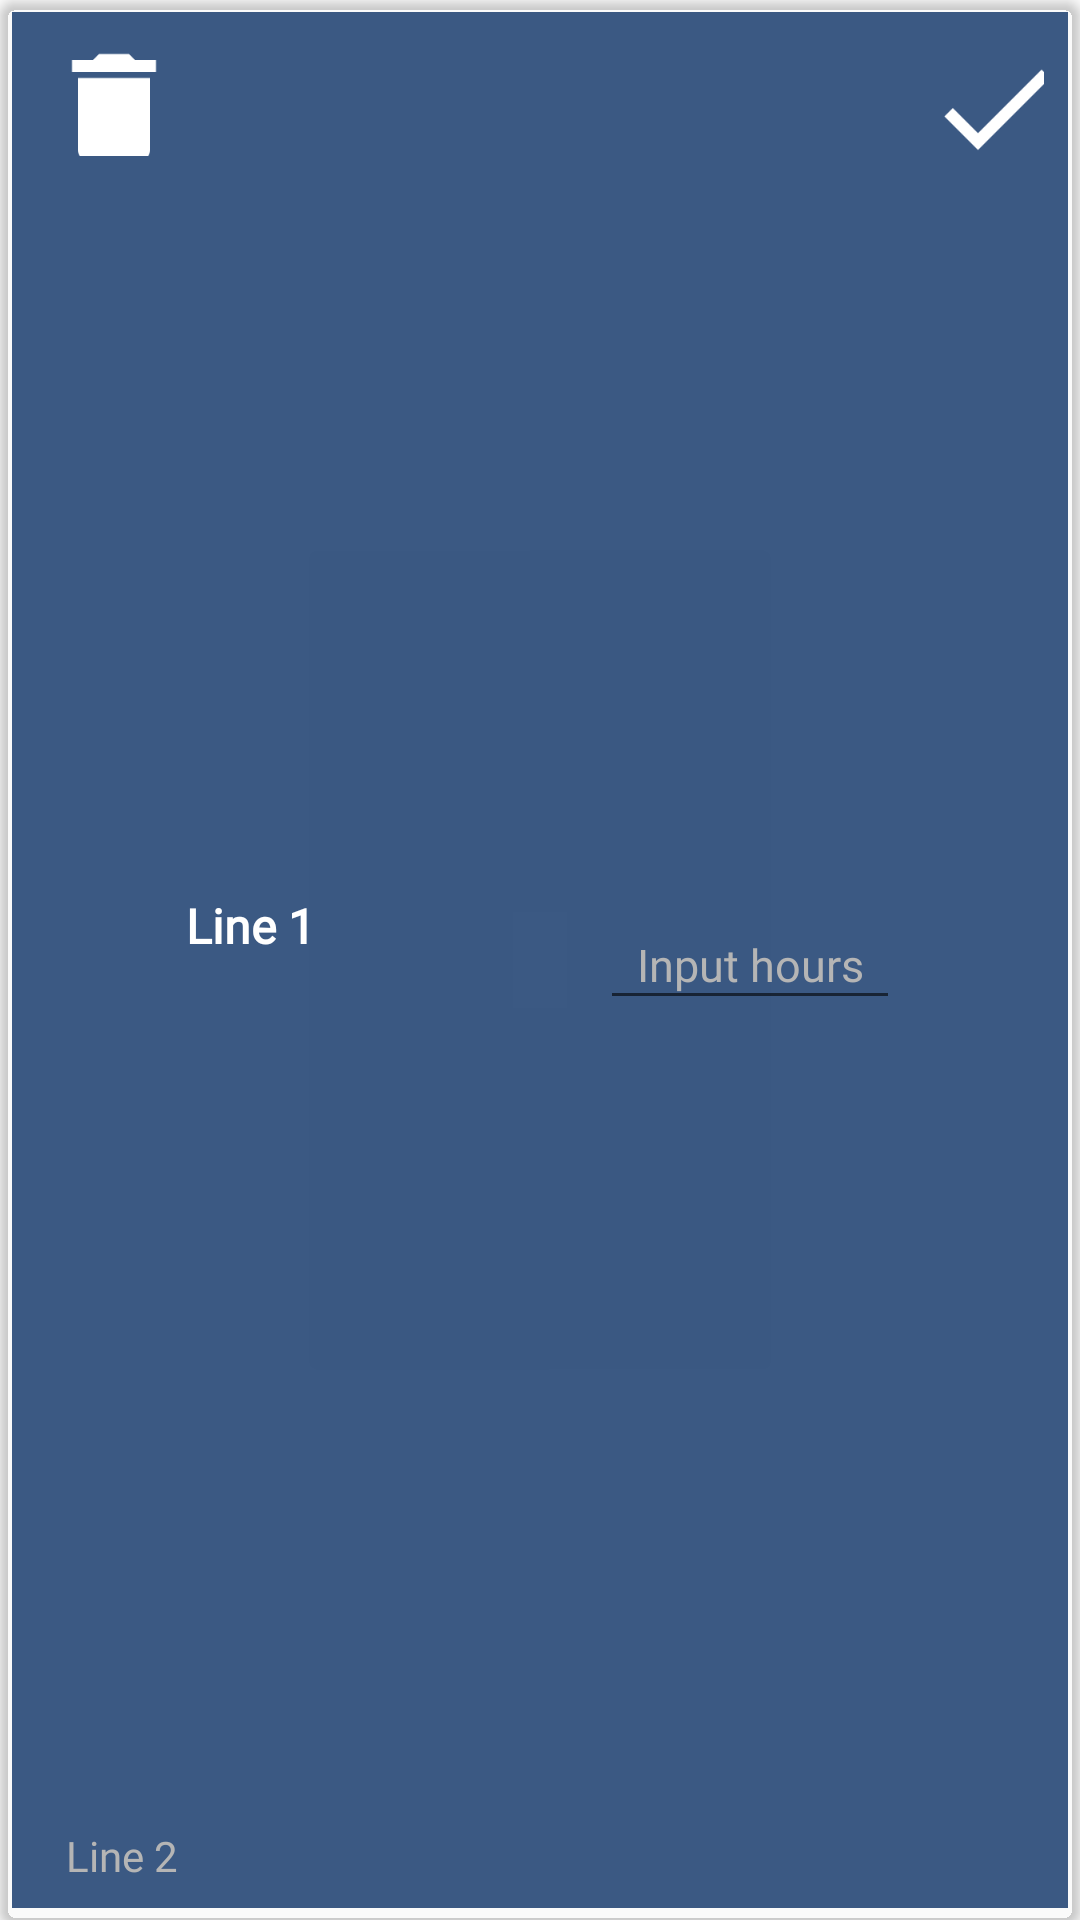

Screen size 1080px x 1920px. Icon name, then its box in pixels as [left=x1, top=y1, right=x2, bottom=y2]:
delete: [left=71, top=53, right=157, bottom=156]
done: [left=944, top=69, right=1044, bottom=150]
